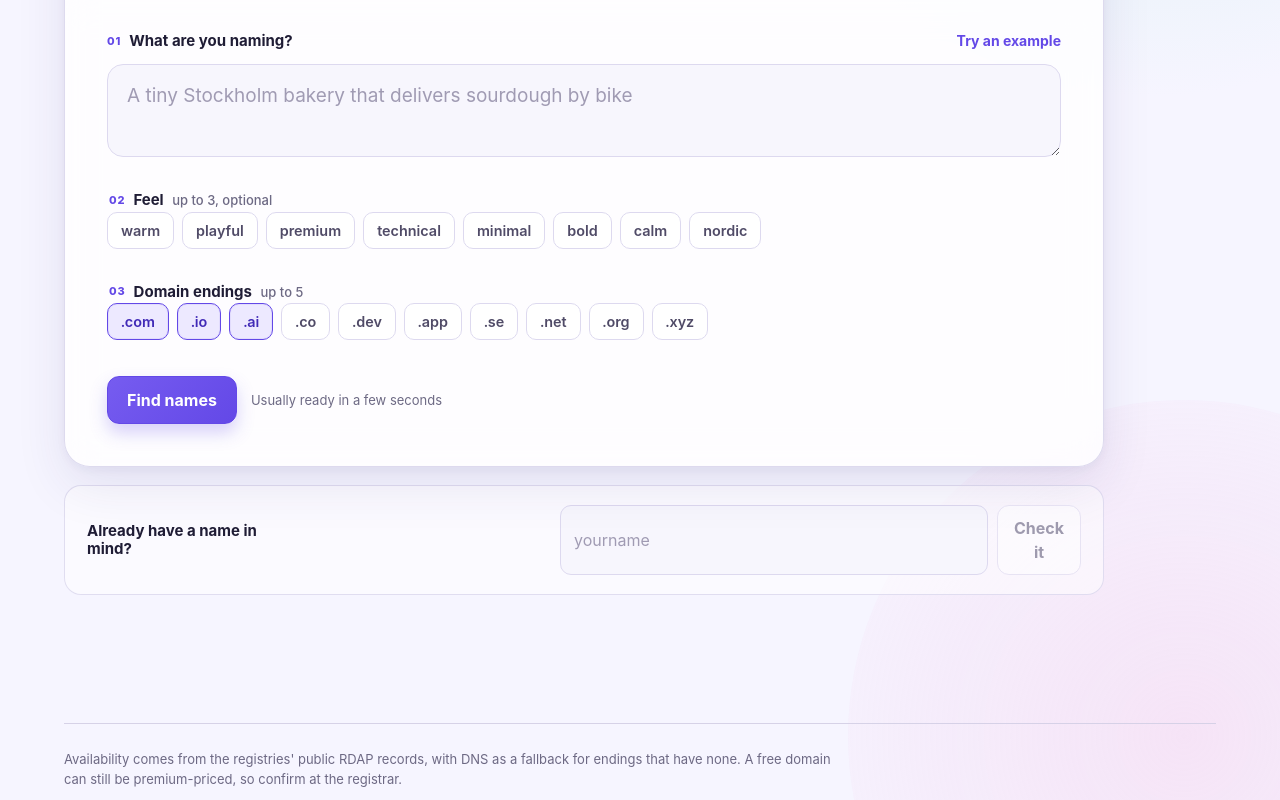
Test: App › asks for a description before searching
(page scrolled)
Click the button "Find names" at x=172, y=400, box top-left (107, 376), bottom-right (237, 424)
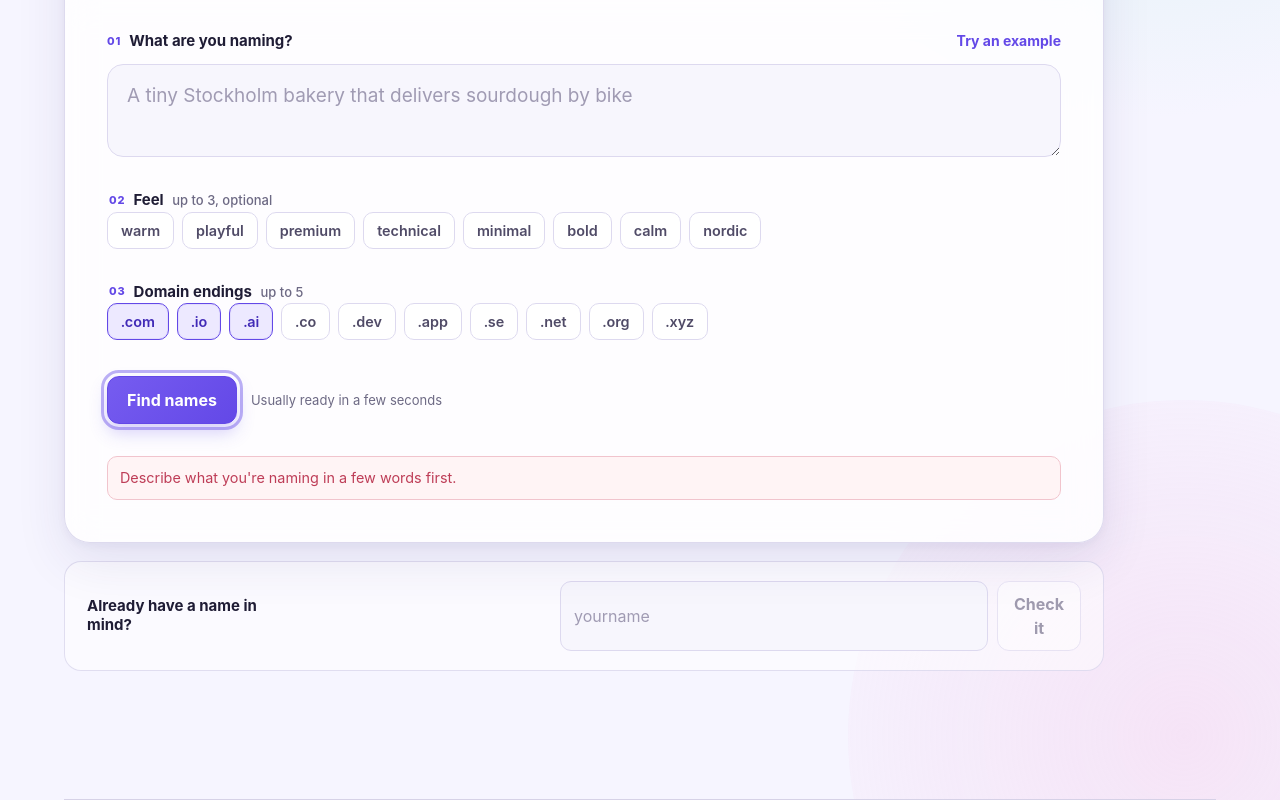
Check: the message shows "Describe what you're naming", box top-left (120, 469), bottom-right (456, 486)
